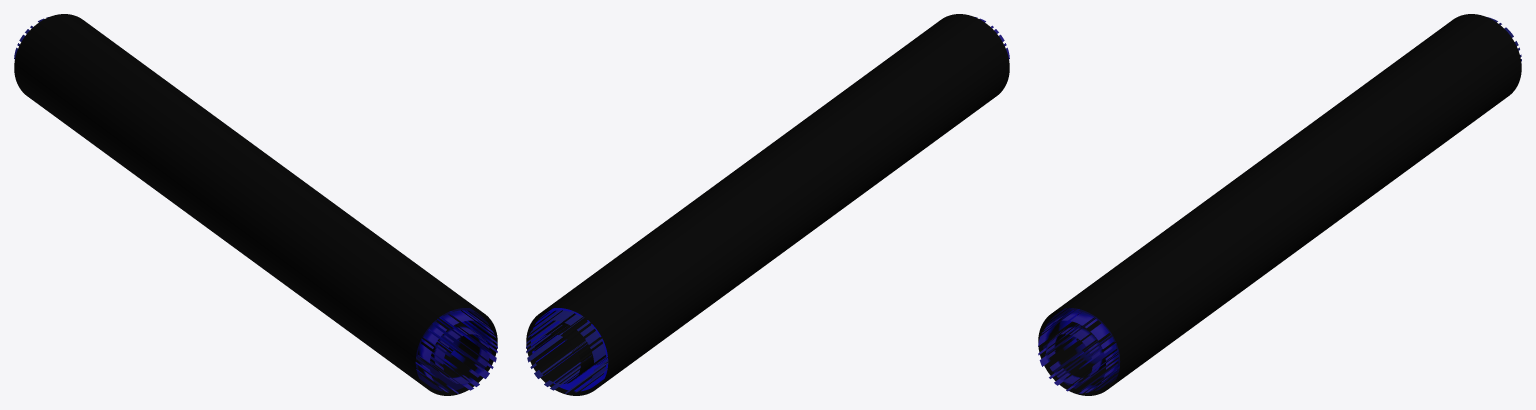
File: hallway2.fbx
3 renders of one model, left to right at view 1: azimuth 30°, elevation 25°; view 2: azimuth 150°, elevation 25°; view 3: azimuth 330°, elevation 25°, orthographic.
Parts seen in each view (by area): view 1: Cylinder_1, Cylinder_5, Cylinder_3, Cylinder_2; view 2: Cylinder_1, Cylinder_3, Cylinder_5, Cylinder_2; view 3: Cylinder_1, Cylinder_3, Cylinder_5, Cylinder_2.
Part boxes in pixels (x1=…): Cylinder_1: x1=14, y1=14, x2=497, y2=395; Cylinder_5: x1=14, y1=17, x2=497, y2=393; Cylinder_3: x1=417, y1=313, x2=489, y2=384; Cylinder_2: x1=415, y1=308, x2=492, y2=391; Cylinder_1: x1=526, y1=14, x2=1009, y2=395; Cylinder_3: x1=534, y1=313, x2=605, y2=383; Cylinder_5: x1=526, y1=17, x2=1009, y2=393; Cylinder_2: x1=531, y1=308, x2=608, y2=391; Cylinder_1: x1=1038, y1=14, x2=1521, y2=395; Cylinder_3: x1=1046, y1=317, x2=1118, y2=384; Cylinder_5: x1=1038, y1=17, x2=1521, y2=393; Cylinder_2: x1=1043, y1=308, x2=1120, y2=391.
Bounding box in the file's own units: 1924 × 1924 × 17128.
